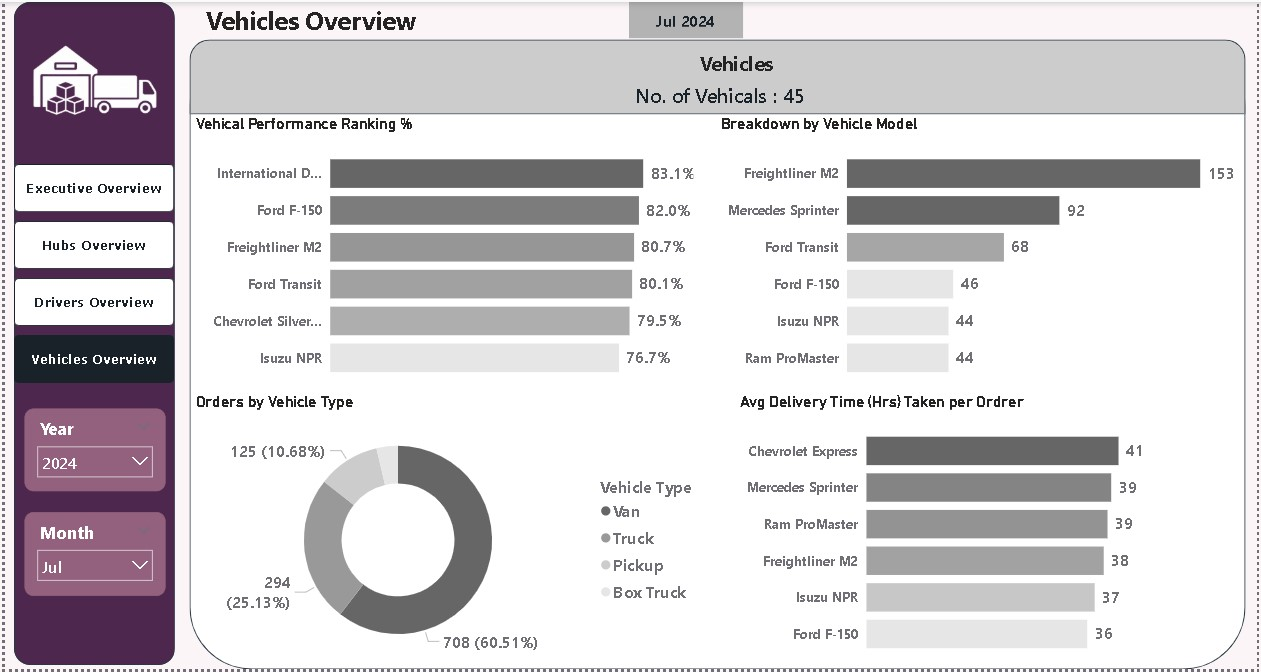

The dashboard page shown, as its layout file describes it:
{"tool":"powerbi","page":{"name":"Vehicles Overview","canvas":[1360,725],"ordinal":3},"visuals":[{"type":"group","id":"g1","title":"Group 2","box":[200.5,45.6,1147.9,679.9],"z":0},{"type":"shape","box":[9.7,0,174.9,720.6],"z":1000},{"type":"shape","box":[200.5,40.8,1147.9,81.5],"z":2000},{"type":"textbox","box":[218.5,1.6,259.2,37.5],"z":3000},{"type":"textbox","box":[706,45.7,177.7,44],"z":4000},{"type":"shape","box":[200.5,45.6,1147.9,679.9],"z":5000,"group":"g1"},{"type":"cardVisual","fields":{"Data":["Vehicles.Vehicals Count"]},"box":[660.3,76.6,265.8,47.3],"z":5000},{"type":"clusteredBarChart","title":"Breakdown by Vehicle Model","fields":{"Category":["Vehicles.Vehicle Model"],"Y":["Sum(Vehicles.Breakdown)"]},"box":[772.8,122.3,572.3,301.6],"z":6000},{"type":"barChart","title":"Avg Delivery Time (Hrs) Taken per Ordrer","fields":{"Y":["Orders.Avg Delivery Hrs"],"Category":["Vehicles.Vehicle Model"]},"box":[794,423.9,551.1,300],"z":7000},{"type":"donutChart","title":"Orders by Vehicle Type","fields":{"Y":["Orders.Total Orders"],"Category":["Orders.Vehicle Type"]},"box":[202.2,423.9,572.3,301.6],"z":8000},{"type":"clusteredBarChart","title":"Vehical Performance Ranking %","fields":{"Y":["Orders.On Time Delivery Rate %"],"Category":["Vehicles.Vehicle Model"]},"box":[202.2,122.3,551.1,301.6],"z":9000},{"type":"cardVisual","fields":{"Data":["Date Table.Year Month Titile"]},"box":[678.3,0,123.9,39.1],"z":10000},{"type":"pageNavigator","box":[9.8,176.1,174.5,239.7],"z":11000},{"type":"image","box":[9.8,1.6,174.5,174.5],"z":12000},{"type":"slicer","fields":{"Values":["Date Table.Year"]},"box":[21.2,441.2,153.3,89.7],"z":13000},{"type":"slicer","fields":{"Values":["Date Table.Month"]},"box":[21.2,553.7,153.3,91.3],"z":14000}]}

Visuals, with their boxes on the page's 1360x725 design canvas (x1, y1, x2, y2). These are canvas units, not pixel positions in the 1261x672 screenshot, which may show the page scaled, cropped or inside an application window:
"Group 2" group: bbox=[200, 46, 1348, 726]
shape: bbox=[10, 0, 185, 721]
shape: bbox=[200, 41, 1348, 122]
textbox: bbox=[218, 2, 478, 39]
textbox: bbox=[706, 46, 884, 90]
shape: bbox=[200, 46, 1348, 726]
cardVisual - Vehicles.Vehicals Count: bbox=[660, 77, 926, 124]
"Breakdown by Vehicle Model" clusteredBarChart: bbox=[773, 122, 1345, 424]
"Avg Delivery Time (Hrs) Taken per Ordrer" barChart: bbox=[794, 424, 1345, 724]
"Orders by Vehicle Type" donutChart: bbox=[202, 424, 774, 726]
"Vehical Performance Ranking %" clusteredBarChart: bbox=[202, 122, 753, 424]
cardVisual - Date Table.Year Month Titile: bbox=[678, 0, 802, 39]
pageNavigator: bbox=[10, 176, 184, 416]
image: bbox=[10, 2, 184, 176]
slicer - Date Table.Year: bbox=[21, 441, 174, 531]
slicer - Date Table.Month: bbox=[21, 554, 174, 645]
